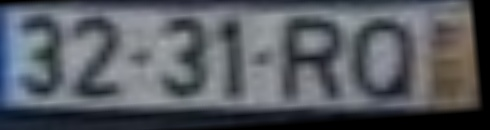1: (213, 15, 253, 103)
2: (69, 13, 131, 102)
3: (155, 13, 218, 105), (16, 13, 72, 102)
Q: (349, 15, 423, 106)
R: (278, 16, 351, 106)
